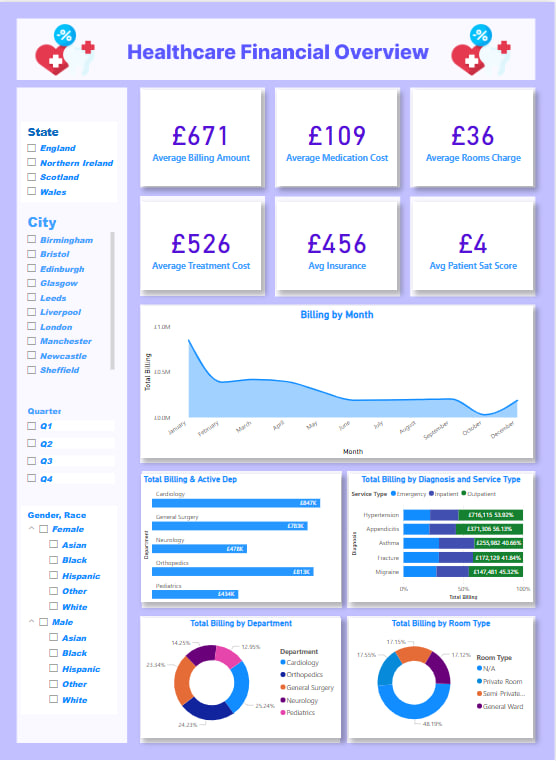

What the dashboard file says about the page in this screenshot:
{"tool":"powerbi","page":{"name":"Page 4","canvas":[1115,1520],"ordinal":2},"visuals":[{"type":"card","fields":{"Values":["Dax Calculations.Average Billing Amount"]},"box":[288,176,240,192],"z":0},{"type":"card","fields":{"Values":["Dax Calculations.Average Medication Cost"]},"box":[560,176,240,192],"z":1000},{"type":"card","fields":{"Values":["Dax Calculations.Average Rooms Charge"]},"box":[832,176,240,192],"z":2000},{"type":"card","fields":{"Values":["Dax Calculations.Average Treatment Cost"]},"box":[288,400,240,176],"z":3000},{"type":"card","fields":{"Values":["Dax Calculations.Avg Insurance"]},"box":[560,400,240,176],"z":4000},{"type":"card","fields":{"Values":["Dax Calculations.Avg Patient Sat Score"]},"box":[832,400,240,176],"z":5000},{"type":"stackedAreaChart","title":"Billing by Month","fields":{"Category":["Data_table.Month"],"Y":["Dax Calculations.Total Billing"]},"box":[288,608,784,304],"z":6000},{"type":"donutChart","fields":{"Y":["Dax Calculations.Total Billing"],"Category":["departments.Department"]},"box":[288,1232,384,240],"z":7000},{"type":"donutChart","fields":{"Category":["visits.Room Type"],"Y":["Dax Calculations.Total Billing"]},"box":[704,1232,368,240],"z":8000},{"type":"clusteredBarChart","title":"Total Billing & Active Dep ","fields":{"Category":["departments.Department"],"Y":["Dax Calculations.Blank Measure","Dax Calculations.Total Billing"]},"box":[288,944,384,256],"z":9000},{"type":"hundredPercentStackedBarChart","fields":{"Category":["diagnoses.Diagnosis"],"Y":["Dax Calculations.Total Billing"],"Series":["visits.Service Type"]},"box":[704,944,368,256],"z":10000},{"type":"slicer","fields":{"Values":["cities.City"]},"box":[48,192,192,336],"z":11000},{"type":"slicer","fields":{"Values":["Data_table.Quarter"]},"box":[48,768,192,192],"z":12000},{"type":"slicer","fields":{"Values":["cities.State"]},"box":[48,560,192,160],"z":12001},{"type":"slicer","fields":{"Values":["patients.Gender","patients.Race"]},"box":[48,976,192,416],"z":12002},{"type":"textbox","box":[48,48,192,48],"z":12003}]}

Visuals, with their boxes in screenshot pixels (x1, y1, x2, y2), scaled from the page's 1115x1520 canvas onto the 556x761 screenshot:
card - Dax Calculations.Average Billing Amount: [144,88,263,184]
card - Dax Calculations.Average Medication Cost: [279,88,399,184]
card - Dax Calculations.Average Rooms Charge: [415,88,535,184]
card - Dax Calculations.Average Treatment Cost: [144,200,263,288]
card - Dax Calculations.Avg Insurance: [279,200,399,288]
card - Dax Calculations.Avg Patient Sat Score: [415,200,535,288]
"Billing by Month" stackedAreaChart: [144,304,535,457]
donutChart - Dax Calculations.Total Billing x departments.Department: [144,617,335,737]
donutChart - visits.Room Type x Dax Calculations.Total Billing: [351,617,535,737]
"Total Billing & Active Dep " clusteredBarChart: [144,473,335,601]
hundredPercentStackedBarChart - diagnoses.Diagnosis x Dax Calculations.Total Billing: [351,473,535,601]
slicer - cities.City: [24,96,120,264]
slicer - Data_table.Quarter: [24,385,120,481]
slicer - cities.State: [24,280,120,360]
slicer - patients.Gender x patients.Race: [24,489,120,697]
textbox: [24,24,120,48]
